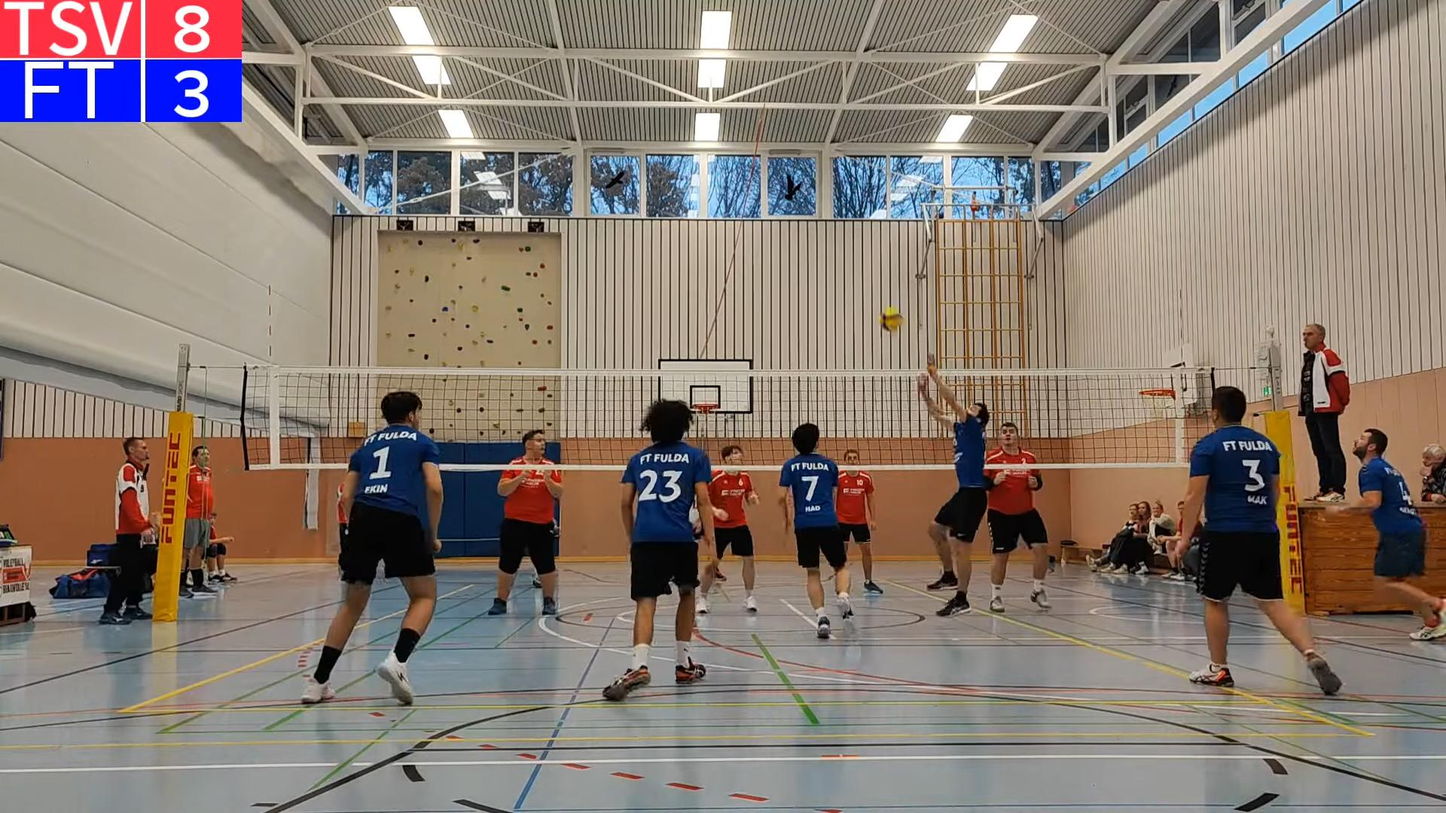Player: (1181, 387, 1341, 694), (302, 391, 443, 704), (602, 400, 716, 700), (1351, 428, 1445, 640), (779, 423, 853, 638), (488, 429, 563, 615), (985, 422, 1050, 612), (709, 445, 758, 612), (836, 449, 883, 593)
Set: (917, 357, 988, 613)
ball: (882, 308, 905, 335)
